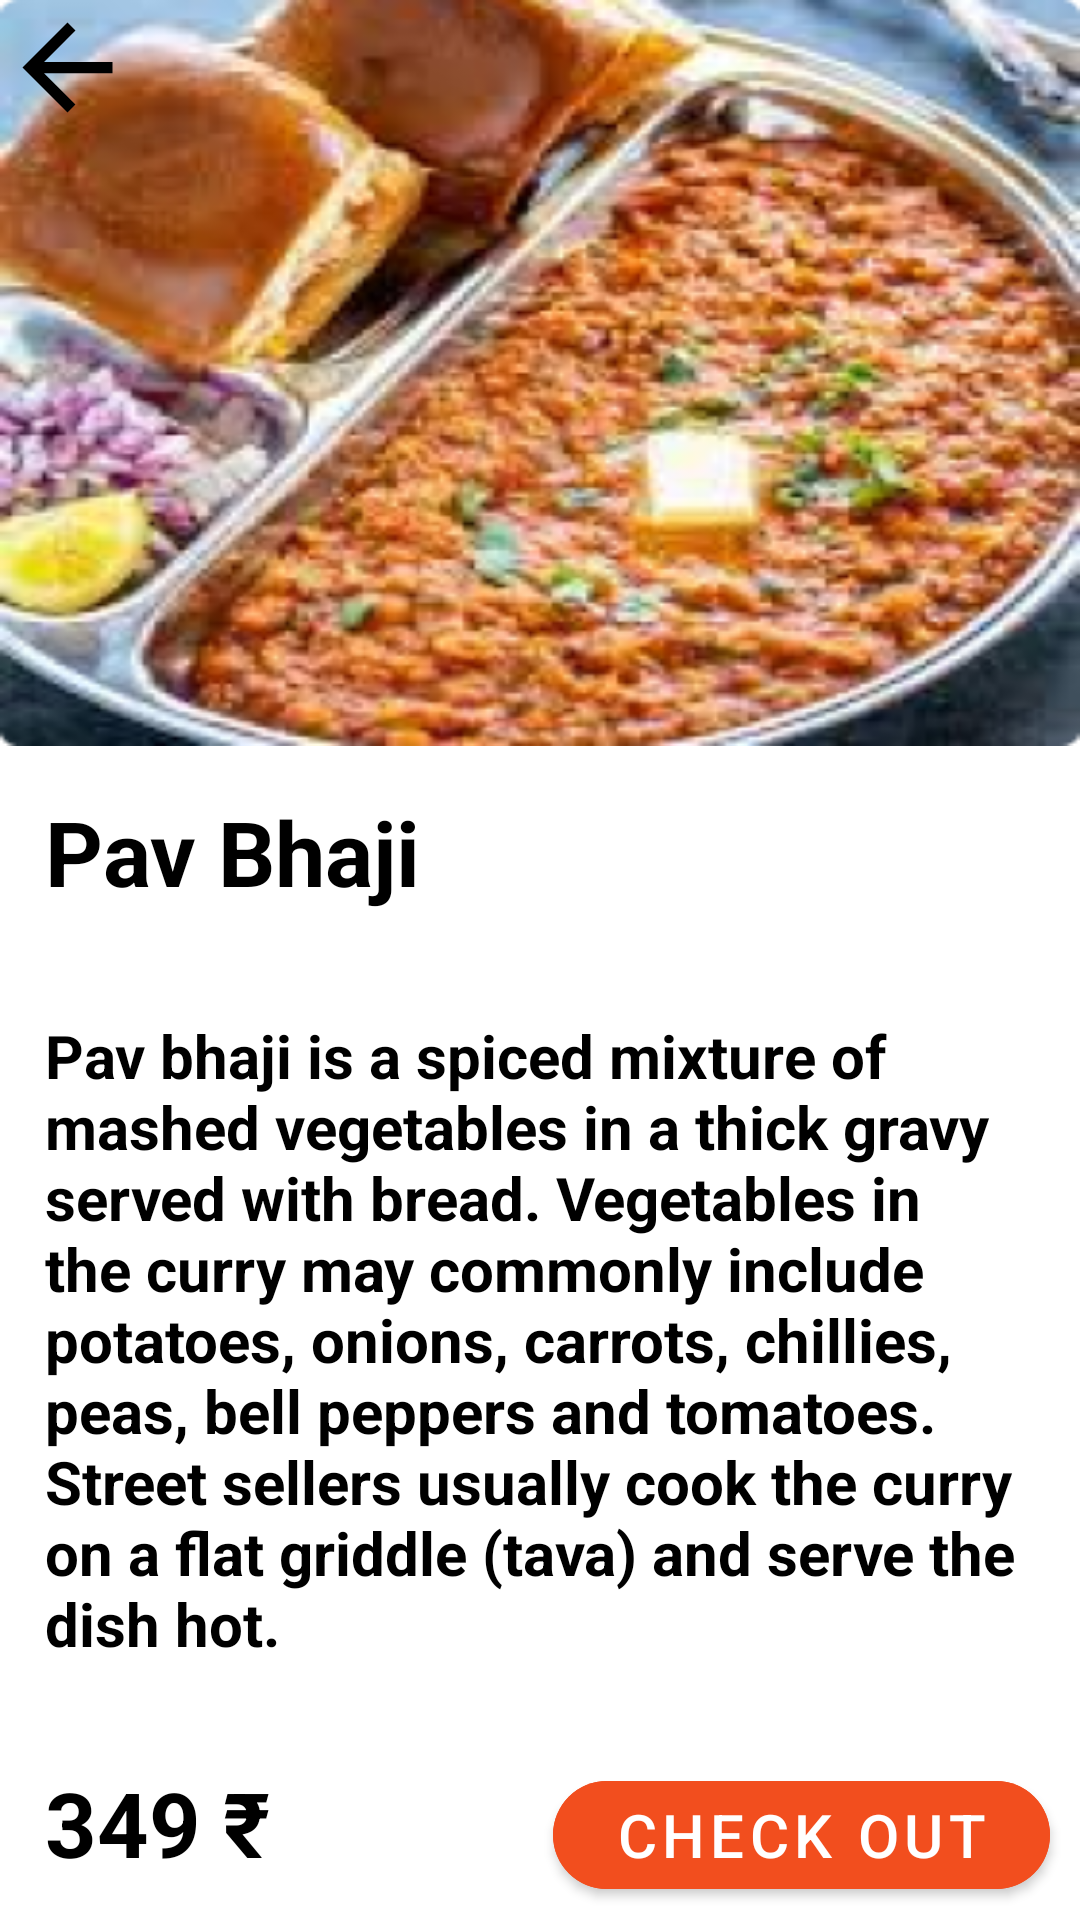

Point at icon controls on the screen. Image size 1080*1920, points as [x,y].
back: [67,67]
